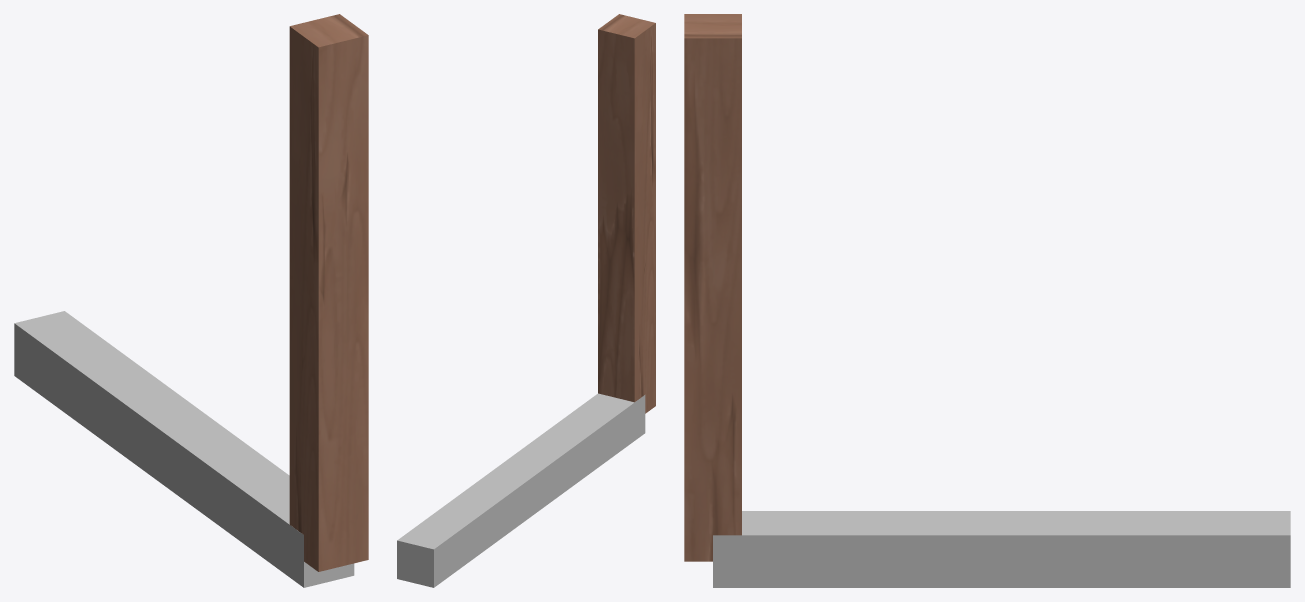
File: SM_wooden_beam_01.fbx
The picture shows the model from 3 angles, left to right: view 1: azimuth 30°, elevation 25°; view 2: azimuth 150°, elevation 25°; view 3: azimuth 270°, elevation 25°; orthographic projection. The views are drawn at different scales.
Parts seen in each view (by area): view 1: SM_wooden_beam_01, SM_wooden_beam_01_ConvexHulls; view 2: SM_wooden_beam_01, SM_wooden_beam_01_ConvexHulls; view 3: SM_wooden_beam_01_ConvexHulls, SM_wooden_beam_01.
Boxes of the visible parts, <box> form: SM_wooden_beam_01: <box>289,14,368,571</box>; SM_wooden_beam_01_ConvexHulls: <box>14,311,354,587</box>; SM_wooden_beam_01: <box>598,14,655,413</box>; SM_wooden_beam_01_ConvexHulls: <box>397,393,645,587</box>; SM_wooden_beam_01_ConvexHulls: <box>713,511,1290,587</box>; SM_wooden_beam_01: <box>684,14,741,561</box>.
Size of the model in its own units: 40.18 by 420 by 420.
